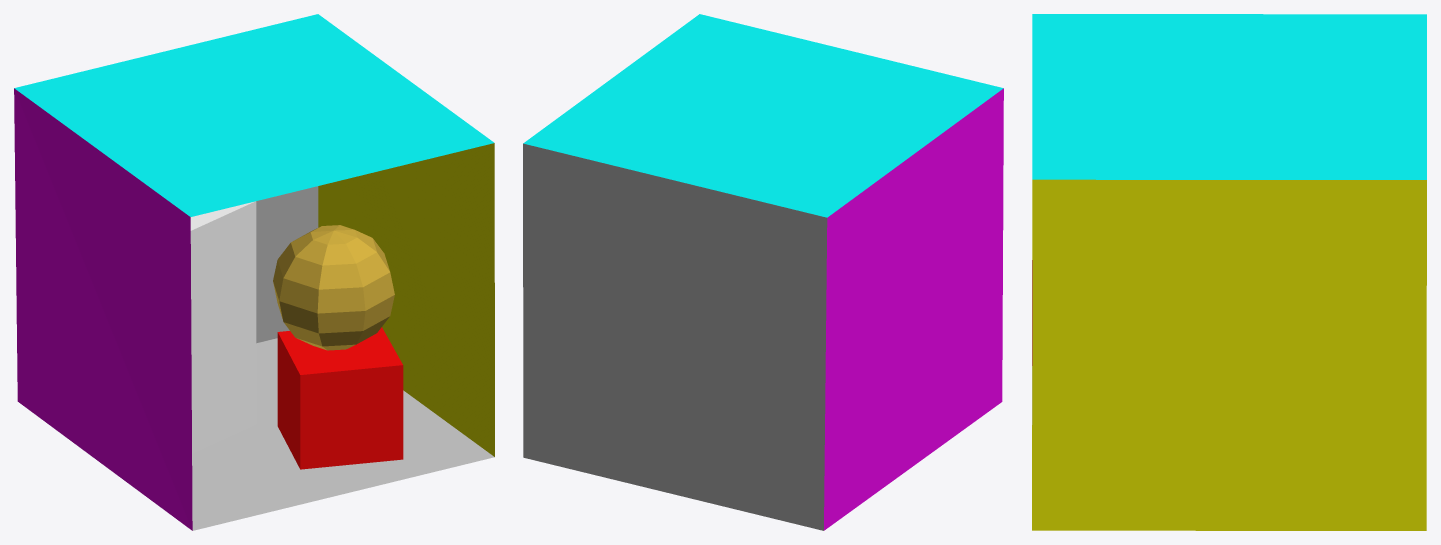
The model's file is cornell-box.obj.
The picture shows the model from 3 angles, left to right: view 1: azimuth 30°, elevation 25°; view 2: azimuth 150°, elevation 25°; view 3: azimuth 270°, elevation 25°; orthographic projection. The views are drawn at different scales.
Parts seen in each view (by area): view 1: left_wall, ceiling, right_wall, floor, tall_box, short_box, sphere, back_wall; view 2: back_wall, left_wall, ceiling; view 3: right_wall, ceiling.
Boxes of the visible parts, bbox=[...] form: left_wall: bbox=[14, 88, 192, 530]; ceiling: bbox=[14, 14, 494, 216]; right_wall: bbox=[318, 143, 494, 456]; floor: bbox=[192, 338, 494, 530]; tall_box: bbox=[190, 201, 256, 453]; short_box: bbox=[277, 327, 403, 469]; sphere: bbox=[273, 225, 394, 350]; back_wall: bbox=[256, 186, 318, 343]; back_wall: bbox=[523, 143, 827, 530]; left_wall: bbox=[824, 88, 1003, 530]; ceiling: bbox=[523, 14, 1003, 217]; right_wall: bbox=[1032, 179, 1426, 530]; ceiling: bbox=[1032, 14, 1426, 179].
Size of the model in its own units: 5.56 by 5.49 by 5.6.
